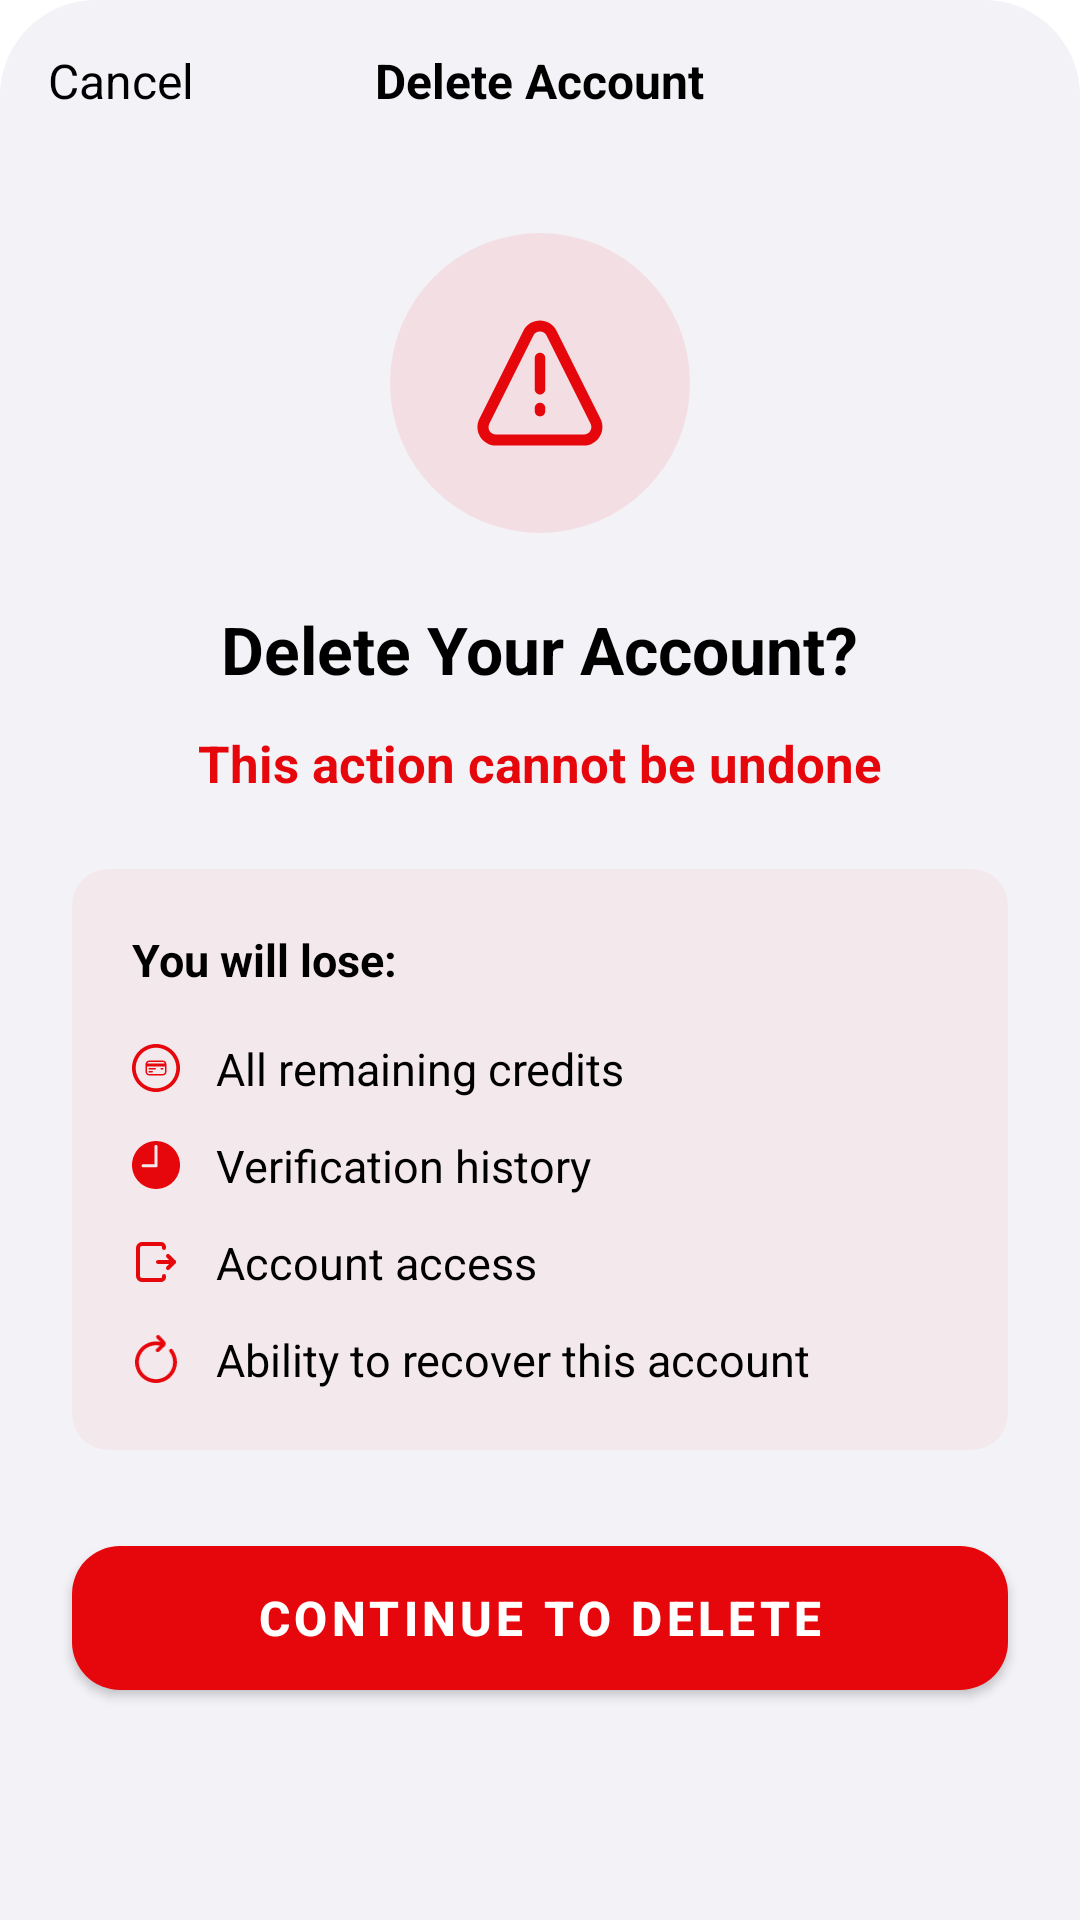

Named icons in this screenshot (1080*1920) and their centers, (x=x, y=y):
credit card: (x=156, y=1068)
restore: (x=156, y=1359)
warning: (x=540, y=383)
